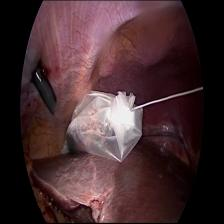Specimen Bag: (56, 89, 146, 161)
